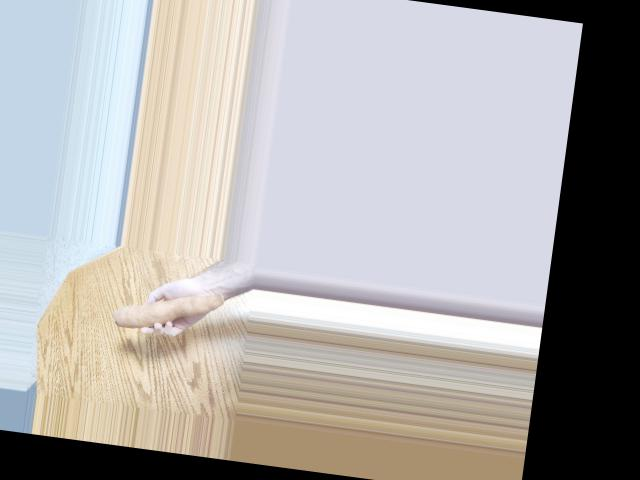sweet_potato: (95, 284, 211, 344)
